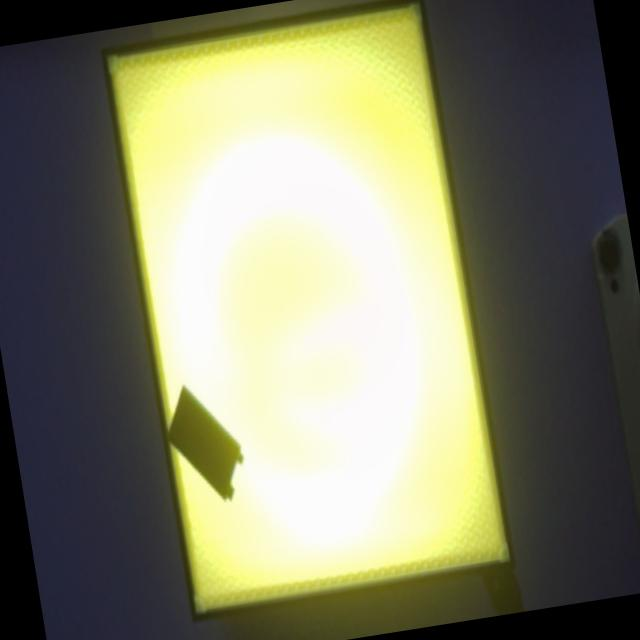bateria: (168, 384, 244, 502)
mesa: (100, 0, 518, 621)
